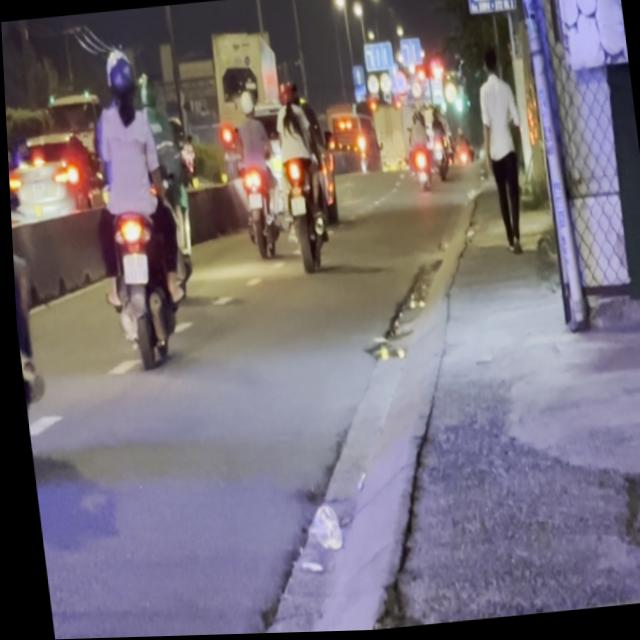helmet: (99, 47, 137, 111)
licenseplate: (73, 42, 193, 370), (1, 21, 52, 484)
nohelmet: (117, 251, 146, 284)
